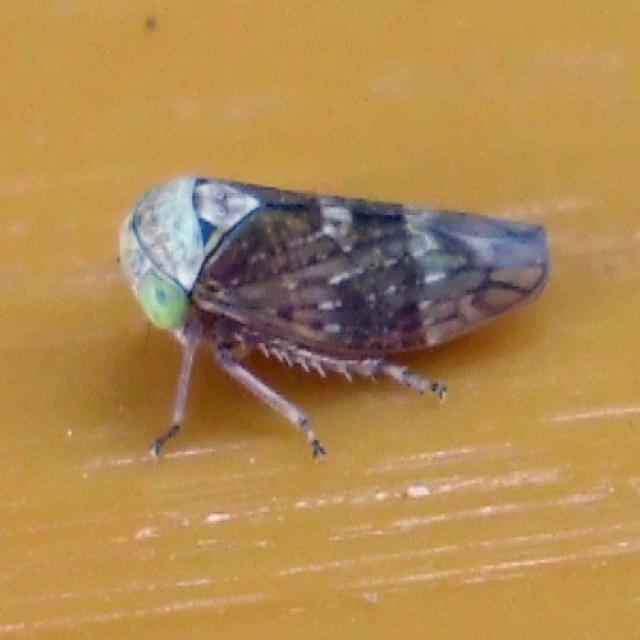Yechan: (90, 139, 558, 441)
